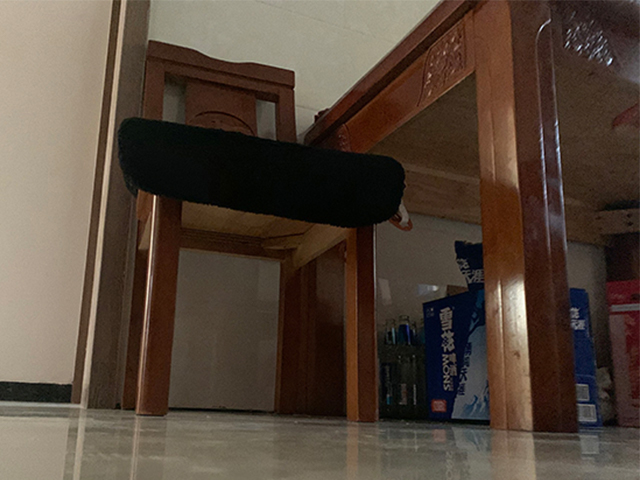stool: (108, 38, 405, 420)
table: (280, 1, 640, 434)
